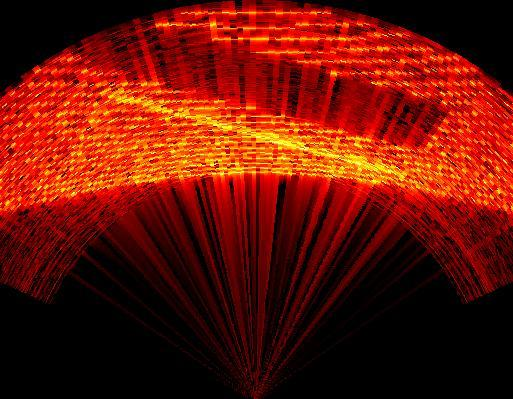pipe: (59, 22, 459, 179)
